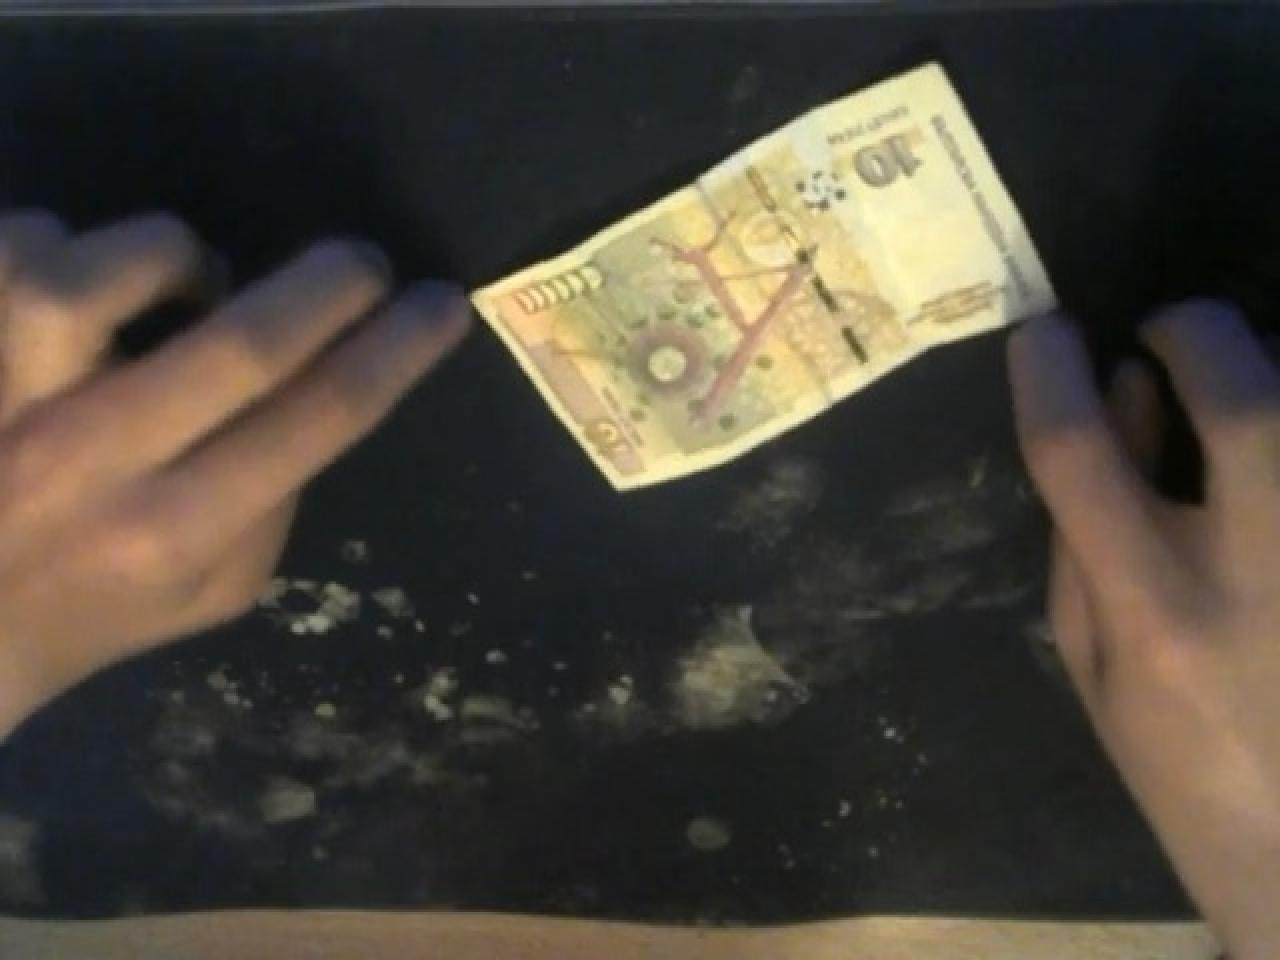10leva: (470, 56, 1056, 491)
